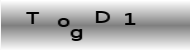1: (123, 12, 136, 26)
D: (93, 9, 110, 24)
T: (24, 10, 40, 24)
g: (70, 28, 82, 41)
o: (57, 17, 71, 28)
